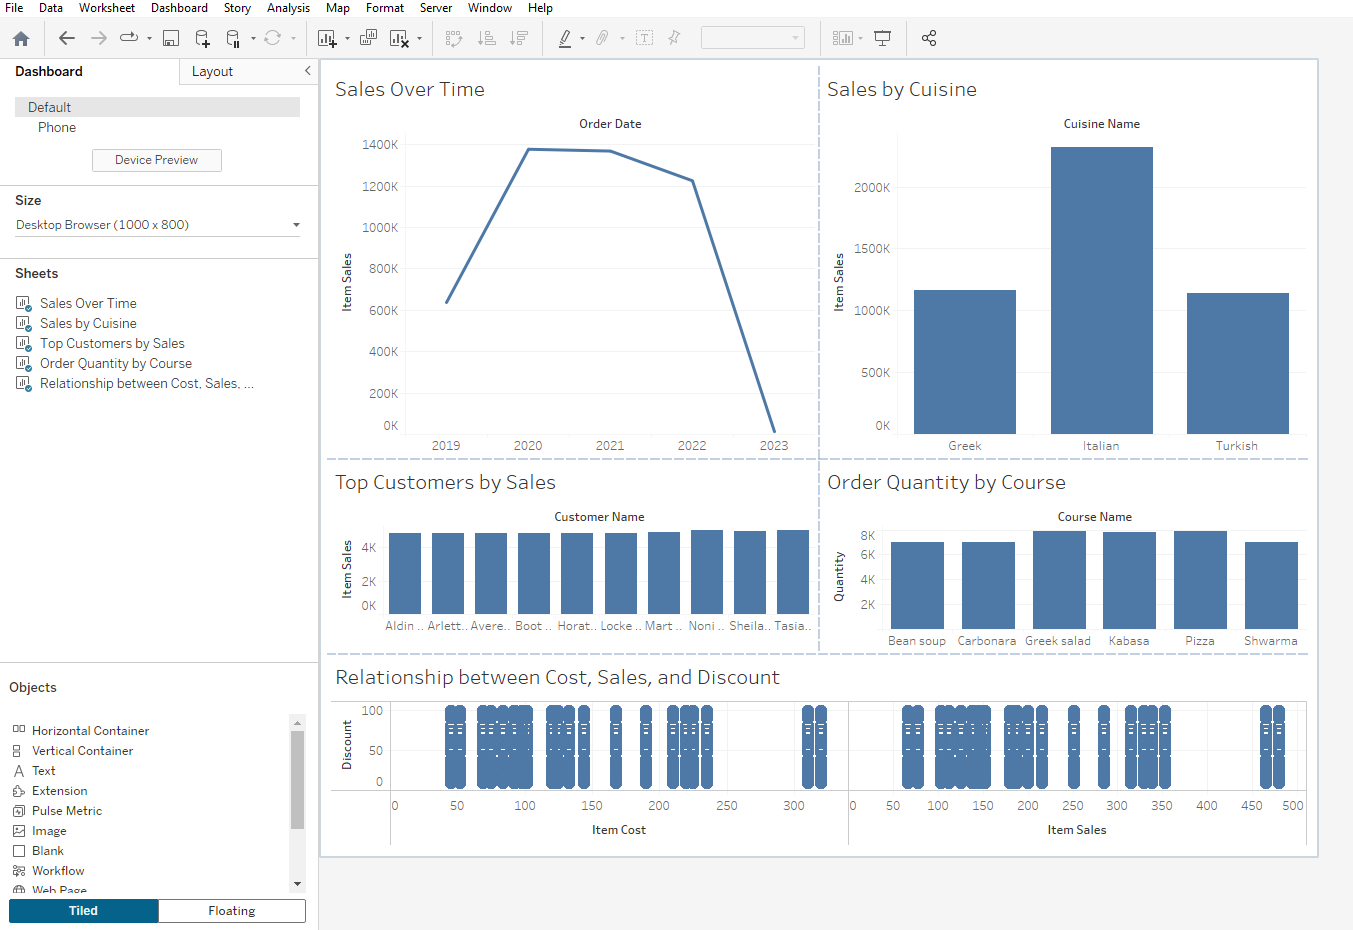

What the dashboard file says about the page in this screenshot:
{"tool":"tableau","page":{"name":"Dashboard","canvas":[1000,800],"ordinal":0},"visuals":[{"type":"worksheet","title":"Sales Over Time","mark":"Automatic","rows":["ItemSales"],"cols":["OrderDate"],"box":[8,8,492,392.8]},{"type":"worksheet","title":"Sales by Cuisine","mark":"Automatic","rows":["ItemSales"],"cols":["CuisineName"],"box":[500,8,492,392.8]},{"type":"worksheet","title":"Top Customers by Sales","mark":"Automatic","rows":["ItemSales"],"cols":["CustomerName"],"box":[8,400.8,492,194.8]},{"type":"worksheet","title":"Order Quantity by Course","mark":"Automatic","rows":["Quantity"],"cols":["CourseName"],"box":[500,400.8,492,194.8]},{"type":"worksheet","title":"Relationship between Cost, Sales, and Discount","mark":"Automatic","rows":["Discount"],"cols":["ItemCost","ItemSales"],"box":[8,595.6,984,196.4]}]}

Visuals, with their boxes on the page's 1000x800 design canvas (x1, y1, x2, y2). These are canvas units, not pixel positions in the 1353x930 screenshot, which may show the page scaled, cropped or inside an application window:
"Sales Over Time" worksheet: region(8, 8, 500, 401)
"Sales by Cuisine" worksheet: region(500, 8, 992, 401)
"Top Customers by Sales" worksheet: region(8, 401, 500, 596)
"Order Quantity by Course" worksheet: region(500, 401, 992, 596)
"Relationship between Cost, Sales, and Discount" worksheet: region(8, 596, 992, 792)
